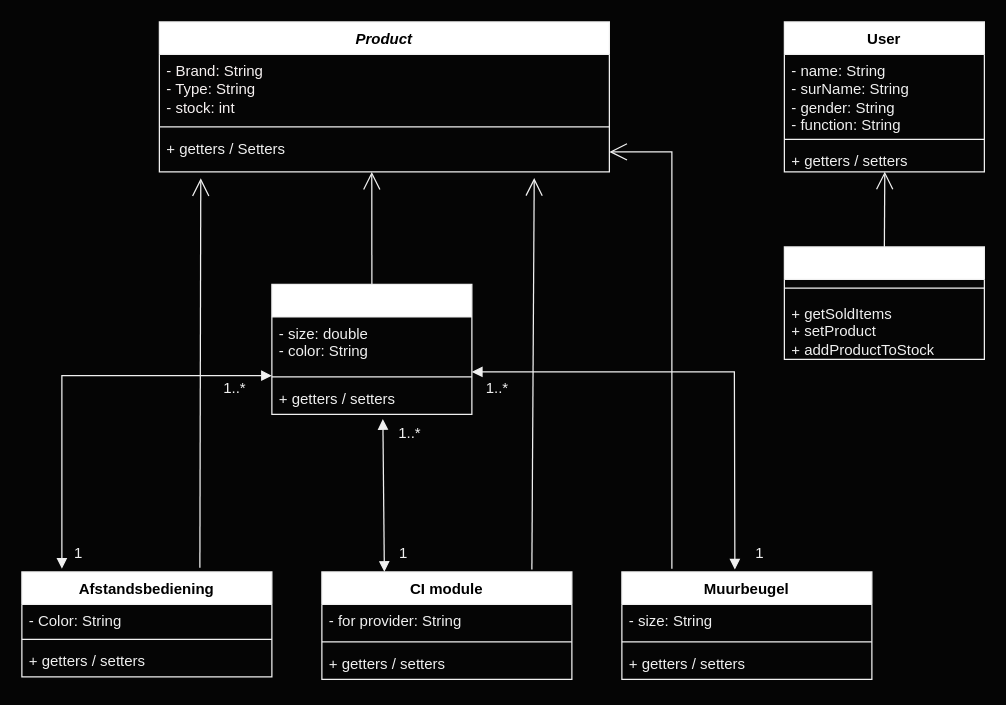
Some shapes in this 1006 by 705 pixel diagram are drawn without their labels. The box of each missing label's shape, as (x1, y1, x2, y2) in pixels:
Admin: (783, 246, 984, 359)
Televisie: (271, 283, 472, 414)
